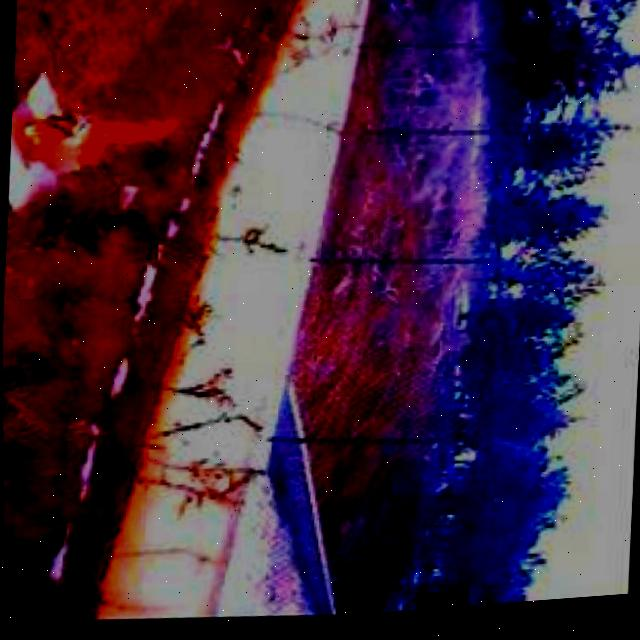Fire: (12, 97, 183, 186)
